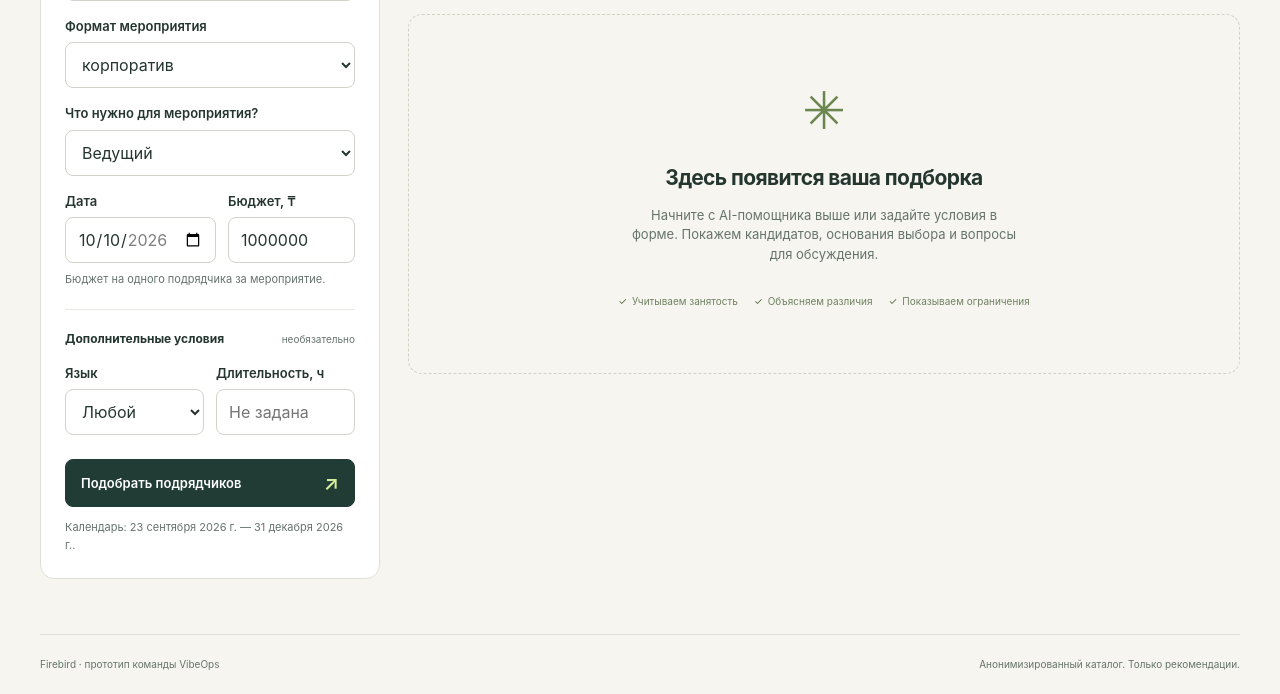
Firebird UI contract › sends all required fields and null optional values; displays fewer than three and busy reasons
The width and height of the screenshot is (1280, 694).
(page scrolled)
Click the button "Подобрать подрядчиков ↗": (210, 483) [65,459,355,507]
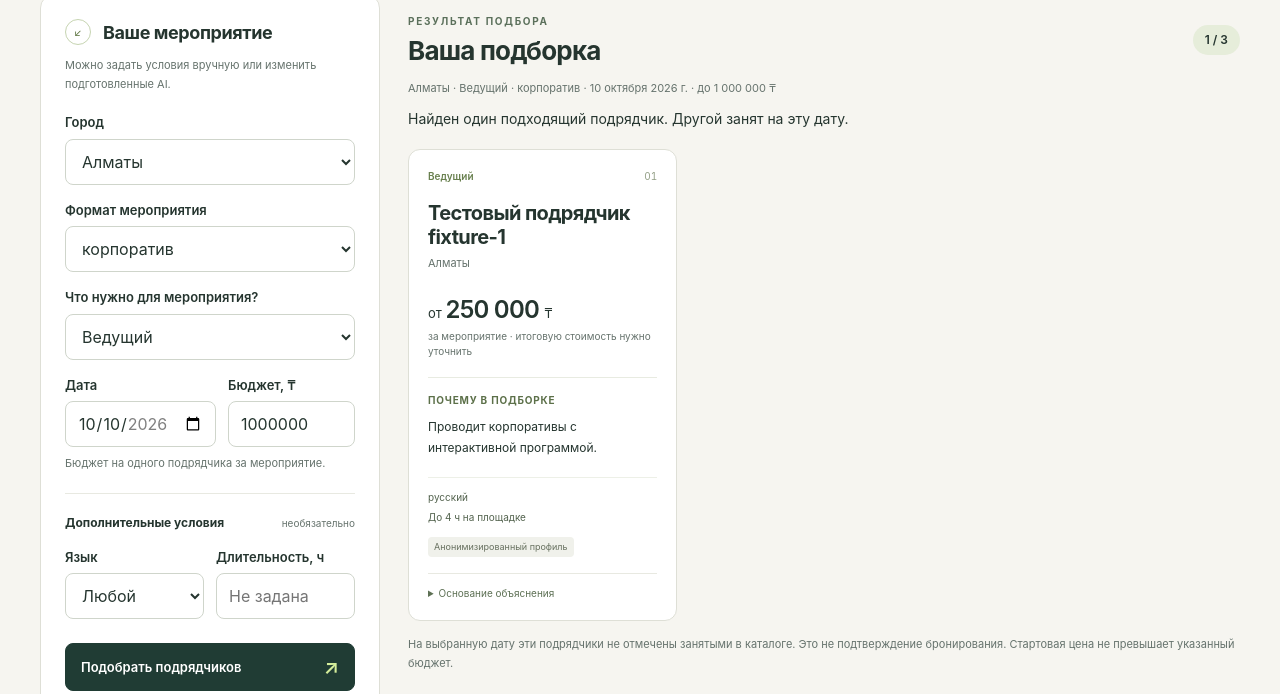
Check: the heading "Ваша подборка" is shown, box [408,35,601,66]
Check: the text "Найден один подходящий подрядчик. Другой занят на эту дату." is shown, box [408,110,848,127]
Check: the text "Стартовая цена не превышает указанный бюджет." is shown, box [408,638,1234,670]
